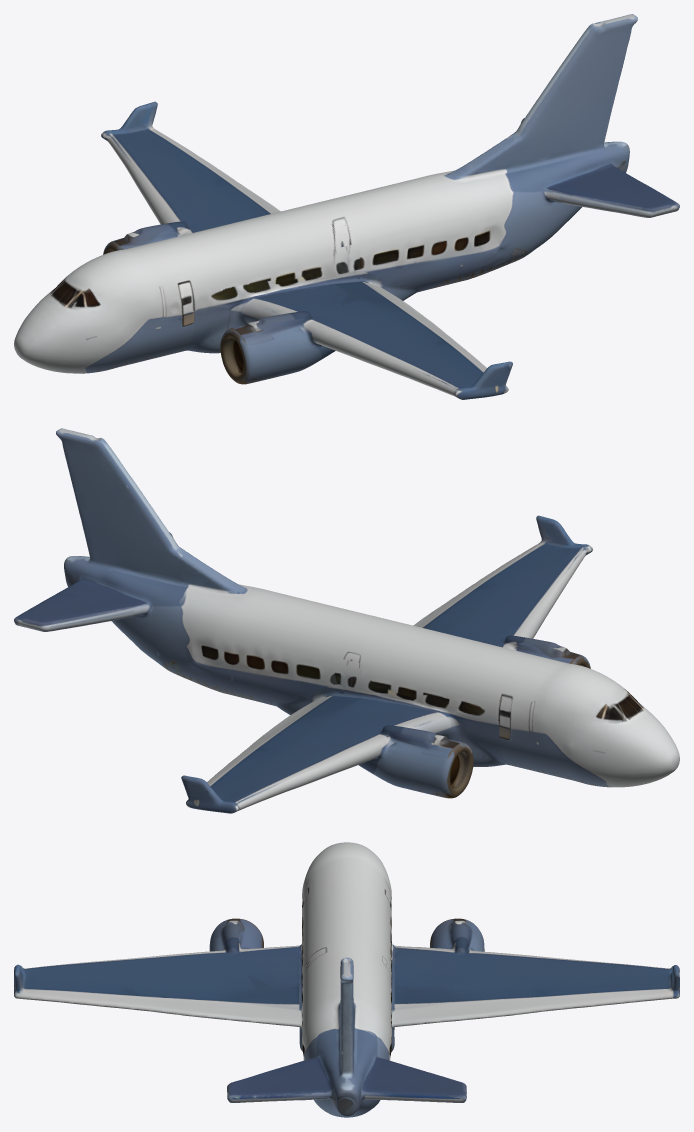
The model's file is aircraft.glb.
3 renders of one model, top to bottom at view 1: azimuth 30°, elevation 25°; view 2: azimuth 150°, elevation 25°; view 3: azimuth 270°, elevation 25°, orthographic. The views are drawn at different scales.
Parts seen in each view (by area): view 1: texture_v100.001; view 2: texture_v100.001; view 3: texture_v100.001.
Boxes of the visible parts, <box> form: texture_v100.001: <box>14,14,679,399</box>; texture_v100.001: <box>14,428,679,813</box>; texture_v100.001: <box>14,842,679,1117</box>.
Size of the model in its own units: 1.14 by 0.3937 by 1.14.
1 material, 1 textured.
